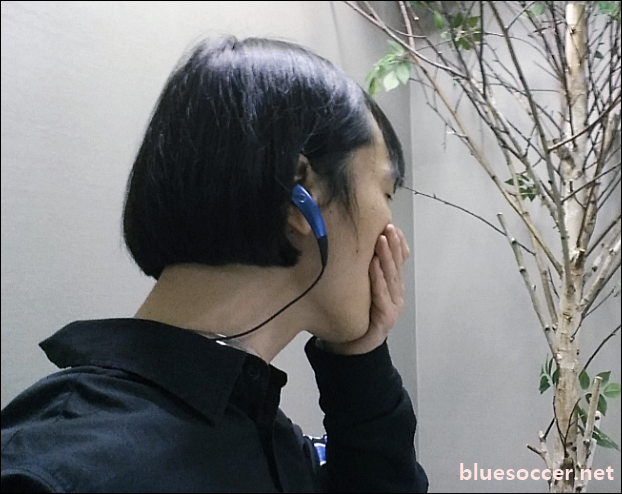earphone: (278, 153, 322, 237)
